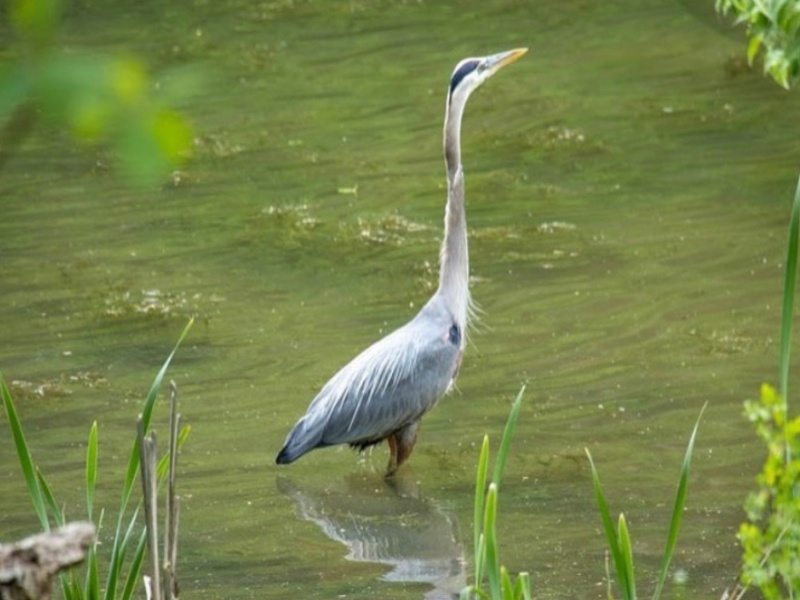heron: (275, 44, 529, 474)
